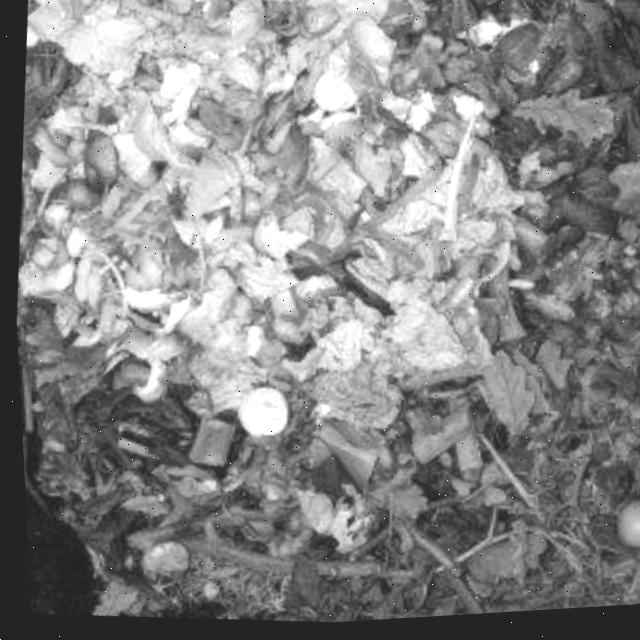Garbage: (12, 0, 640, 624)
